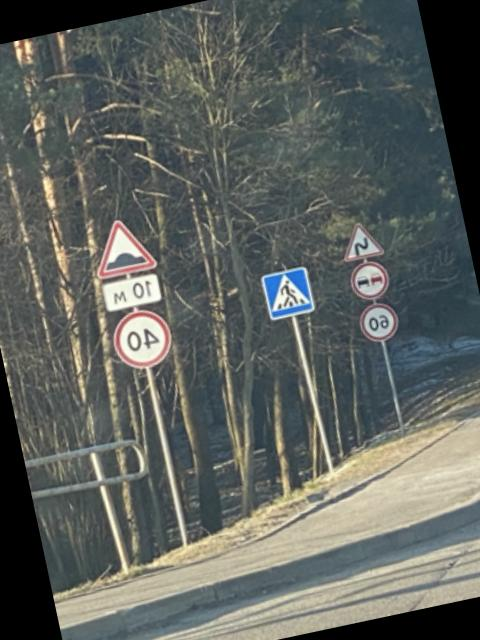crosswalk-sign: (261, 262, 320, 322)
